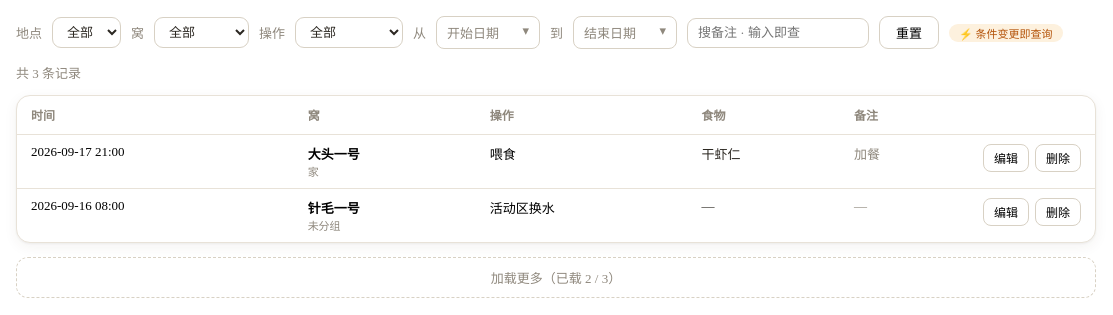
it: 记录列表页（票 08） › 防抖挂起时点「重置」：挂起回调被取消，旧关键词不回写（复审 #8/#9）
This screenshot has width=1113, height=315.
Type "面包虫" into the search field with class "f-keyword" at coordinates (778, 32), box [687,18,869,48]
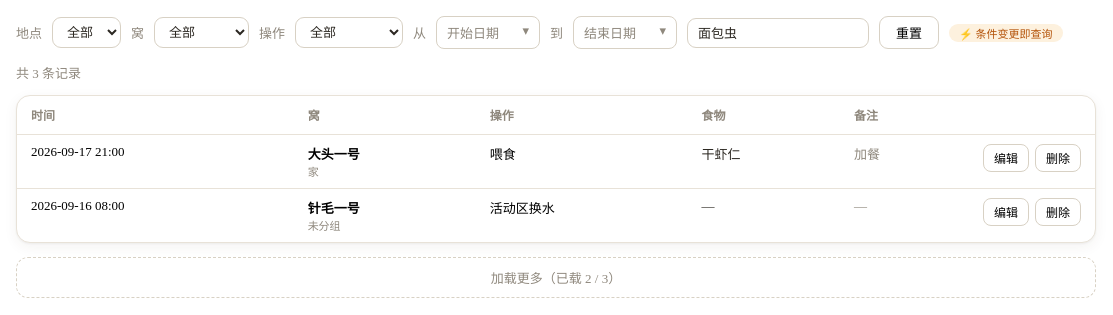
Click the button with class "reset-btn" at coordinates (909, 32), box [879,16,939,49]
Wait 400 ms
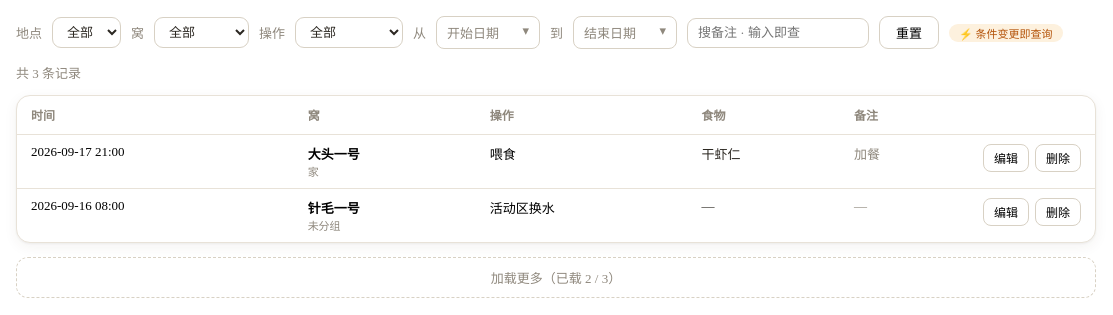
Expected: the search field with class "f-keyword" is empty, [687,18,869,48]
